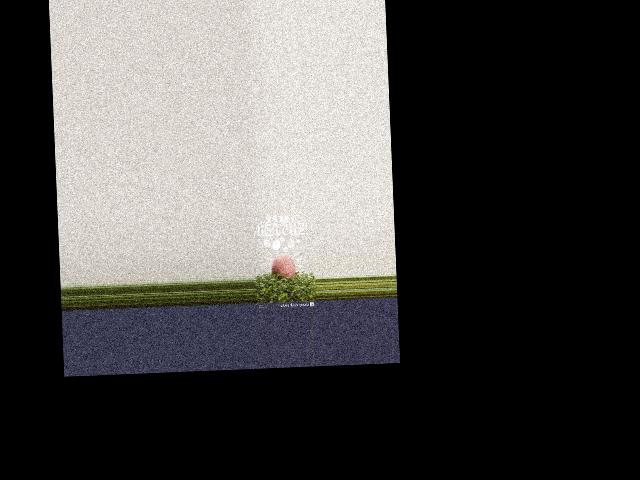egg: (269, 253, 295, 278)
